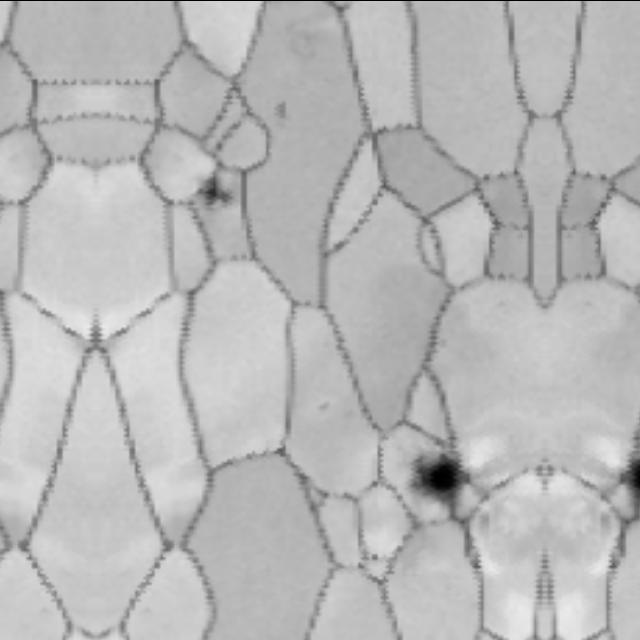good_void: (398, 443, 480, 518), (610, 446, 640, 518), (186, 167, 233, 207), (271, 100, 289, 119), (316, 400, 332, 412), (368, 551, 382, 564)
